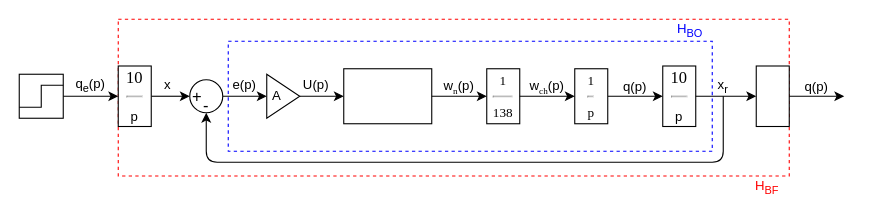
Some shapes in this 872 by 217 pixel diagram are drawn without their labels. The shapes that lost their labels are listed below. From the top down, each one's centre as x and y in pixels, then its label:
At pixel 387 96: "30.3 10.5e-3p + 1".
At pixel 772 96: "p 10".
